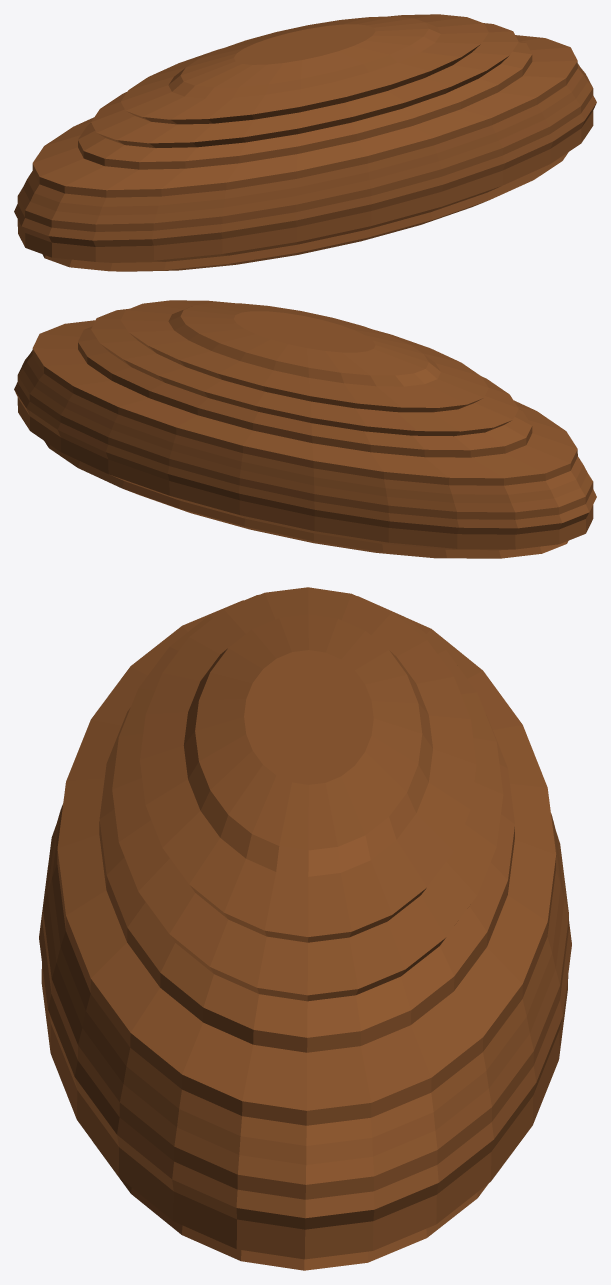
The model's file is result.glb.
3 views of the same model, one above another, from view 1: azimuth 30°, elevation 25°; view 2: azimuth 150°, elevation 25°; view 3: azimuth 270°, elevation 25° (orthographic). The views are drawn at different scales.
Bounding box in the file's own units: 1.92 × 0.583 × 0.7822.
